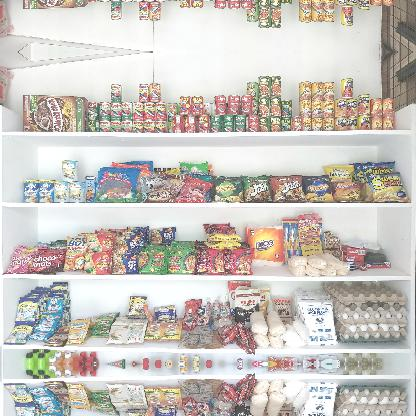Koko-Krunch: (22, 94, 88, 132), (22, 0, 88, 10)
